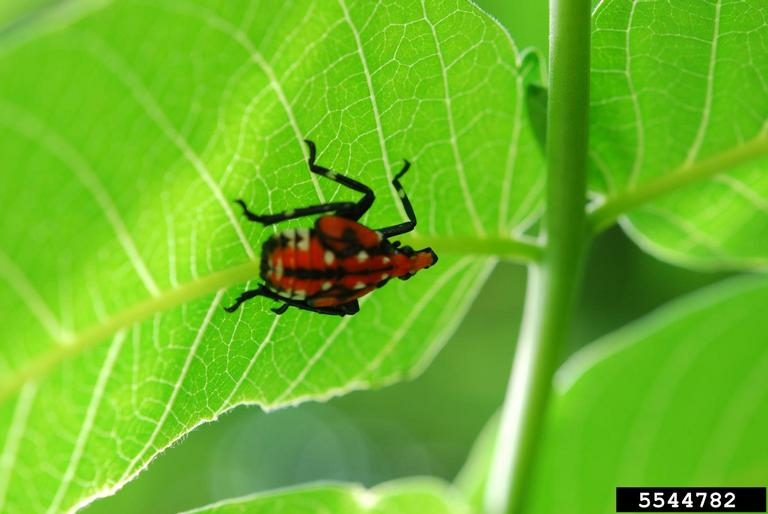instar nymph (4): (217, 151, 446, 326)
